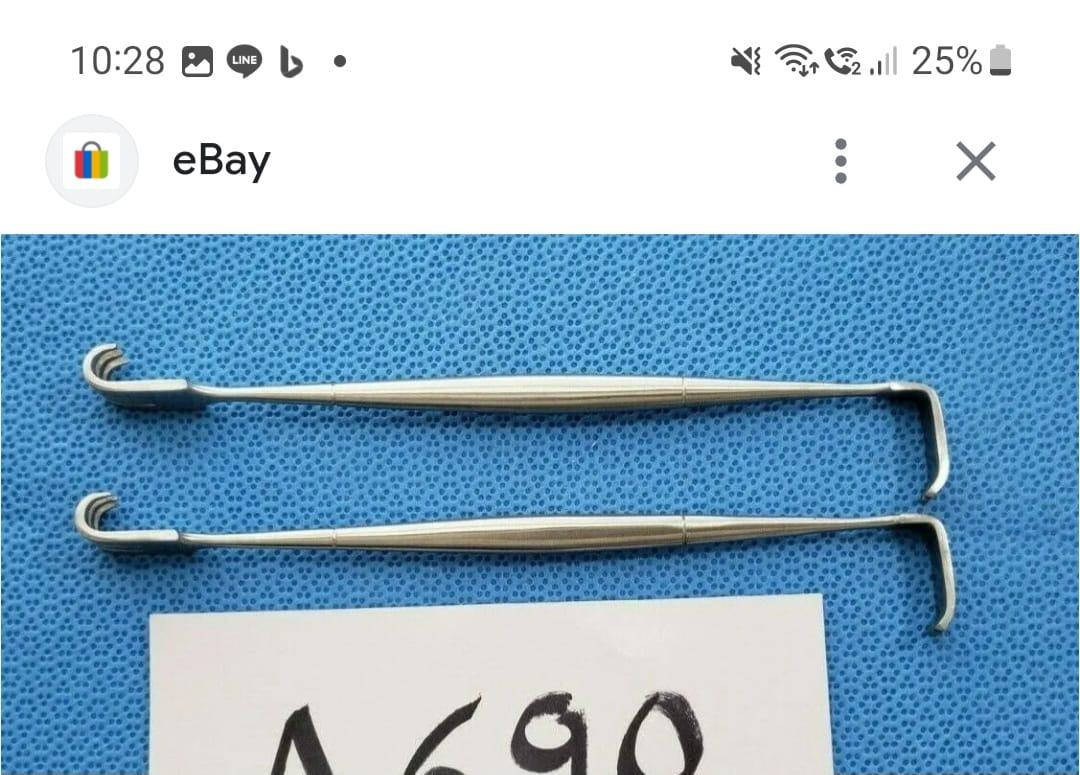Senn Retractor: (72, 319, 960, 501), (67, 477, 970, 642)
